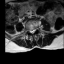CCS_severe_stenosis: (31, 27, 33, 35)
LFS_normal: (35, 25, 36, 32)
LLS_normal: (33, 27, 35, 34)
RFS_normal: (27, 27, 29, 33)
RLS_normal: (29, 27, 31, 34)
